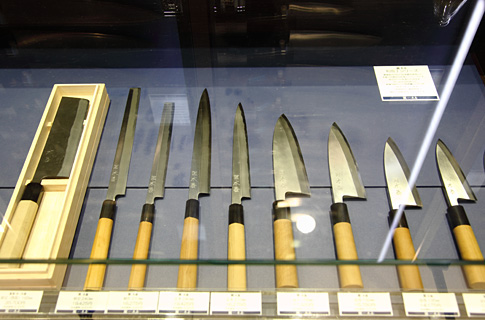knief: (181, 84, 209, 288)
